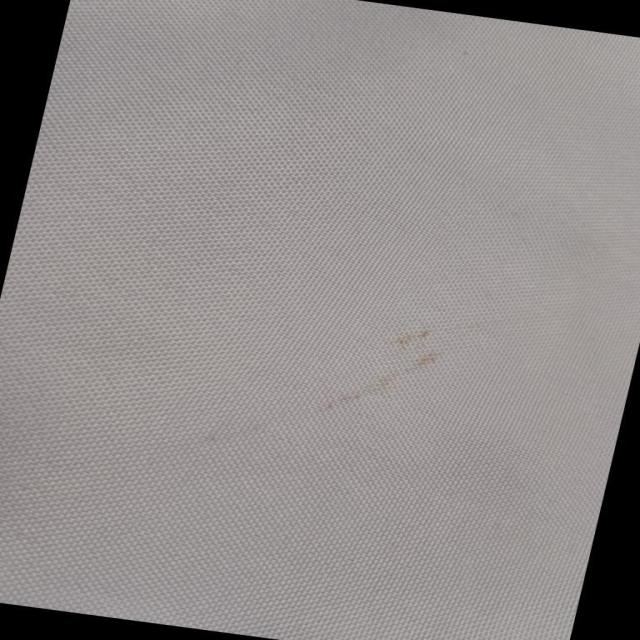stain: (174, 292, 465, 478)
